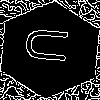U: (25, 25, 79, 66)
